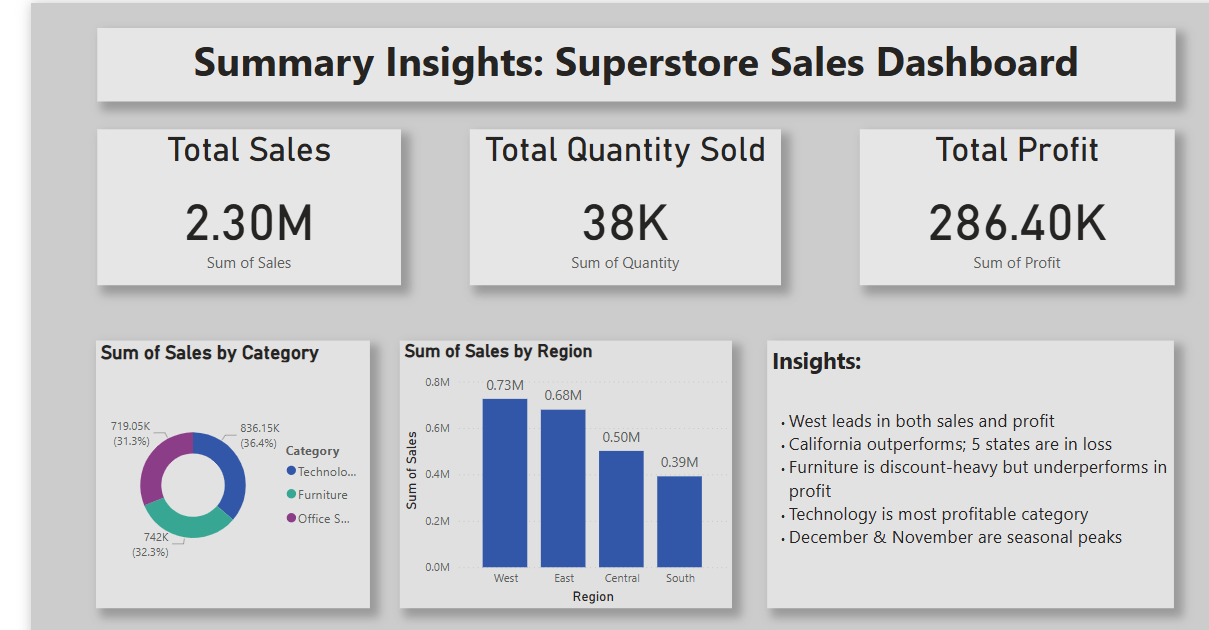

The dashboard page shown, as its layout file describes it:
{"tool":"powerbi","page":{"name":"Summary Page","canvas":[1280,720],"ordinal":1},"visuals":[{"type":"card","title":"Total Sales","fields":{"Values":["Sum(Sample - Superstore.Sales)"]},"box":[70,134,324,166],"z":0},{"type":"card","title":"Total Quantity Sold","fields":{"Values":["Sum(Sample - Superstore.Quantity)"]},"box":[468,134,332,166],"z":1000},{"type":"card","title":"Total Profit","fields":{"Values":["Sum(Sample - Superstore.Profit)"]},"box":[884,134,336,166],"z":2000},{"type":"textbox","box":[70,26,1150,78],"z":3000},{"type":"clusteredColumnChart","fields":{"Category":["Sample - Superstore.Region"],"Y":["Sum(Sample - Superstore.Sales)"]},"box":[393.5,359.8,354.3,285.9],"z":4000},{"type":"donutChart","fields":{"Category":["Sample - Superstore.Category"],"Y":["Sum(Sample - Superstore.Sales)"]},"box":[69.6,359.8,292.4,285.9],"z":5000},{"type":"textbox","box":[785.9,359.8,433.7,285.9],"z":6000}]}

Visuals, with their boxes on the page's 1280x720 design canvas (x1, y1, x2, y2). These are canvas units, not pixel positions in the 1209x630 screenshot, which may show the page scaled, cropped or inside an application window:
"Total Sales" card: 70, 134, 394, 300
"Total Quantity Sold" card: 468, 134, 800, 300
"Total Profit" card: 884, 134, 1220, 300
textbox: 70, 26, 1220, 104
clusteredColumnChart - Sample - Superstore.Region x Sum(Sample - Superstore.Sales): 394, 360, 748, 646
donutChart - Sample - Superstore.Category x Sum(Sample - Superstore.Sales): 70, 360, 362, 646
textbox: 786, 360, 1220, 646
